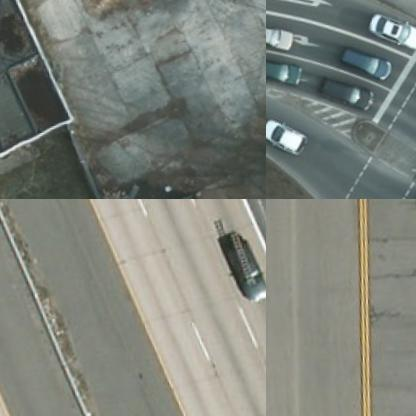car: (314, 67, 376, 119), (334, 42, 394, 88), (227, 243, 265, 311), (368, 2, 415, 56), (266, 110, 309, 159), (266, 50, 310, 93)
